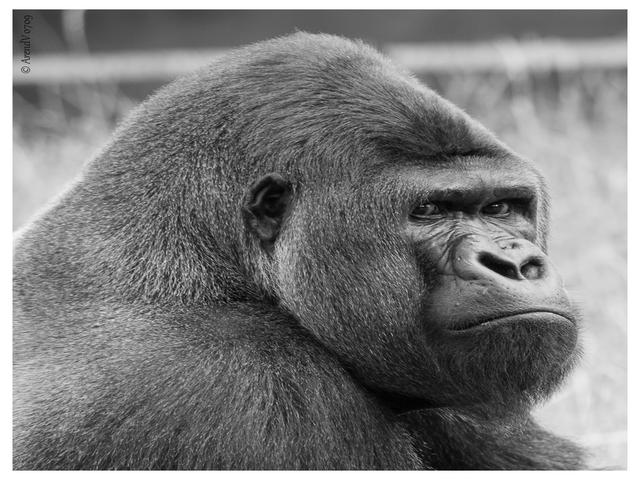monkey: (37, 21, 610, 453)
